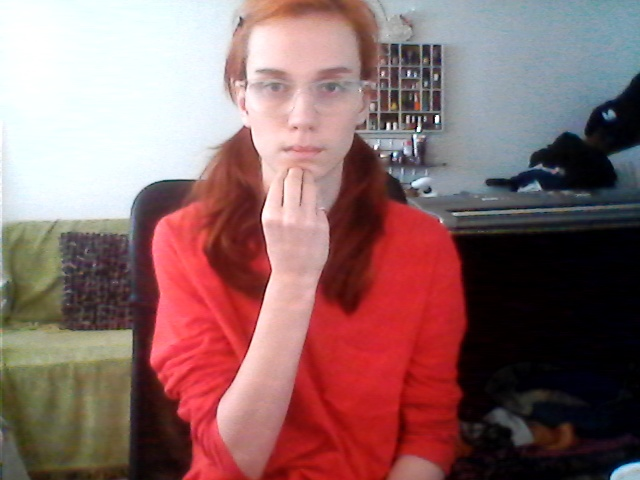c: (264, 151, 351, 271)
